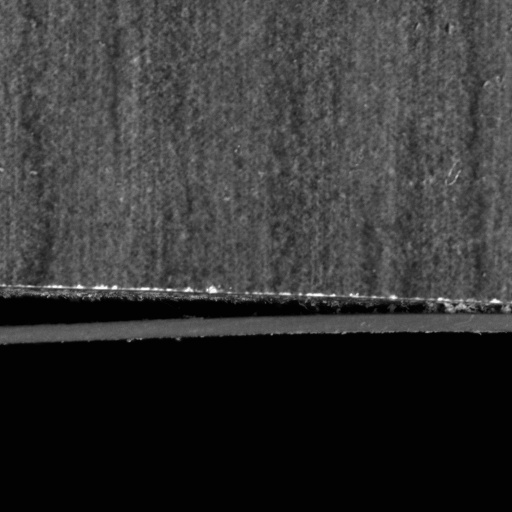kaijiao: (0, 279, 511, 348)
